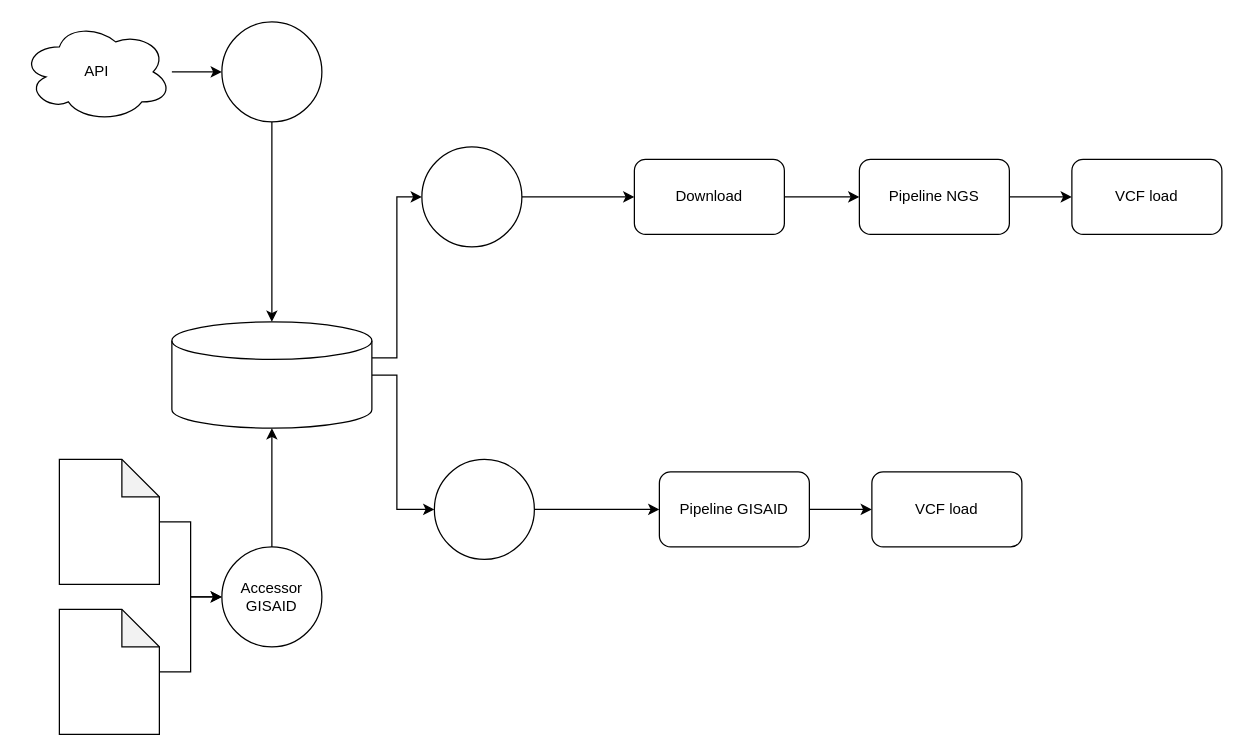
The diagram is 1244 pixels wide and 756 high, and some of its shapes have lost their labels. The shapes that lost their labels are listed below. From the top down, each one's box as (x1, y1, x2, y2) in pixels, then its label:
(221, 21, 322, 122): Accessor
(421, 146, 522, 247): Processor NGS
(433, 458, 534, 559): Processor GISAID
